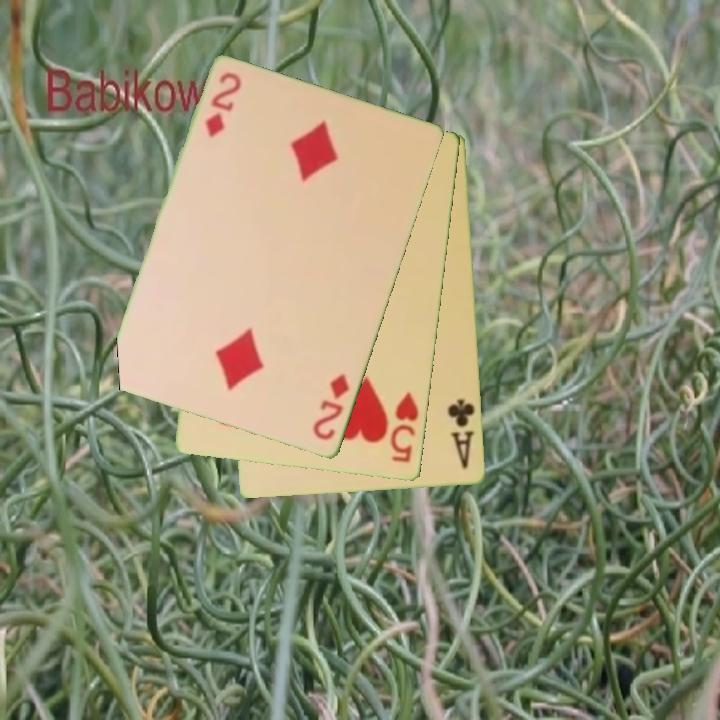2d: (309, 370, 353, 444), (201, 69, 242, 142)
5h: (387, 389, 422, 466)
Ac: (444, 396, 478, 473)
